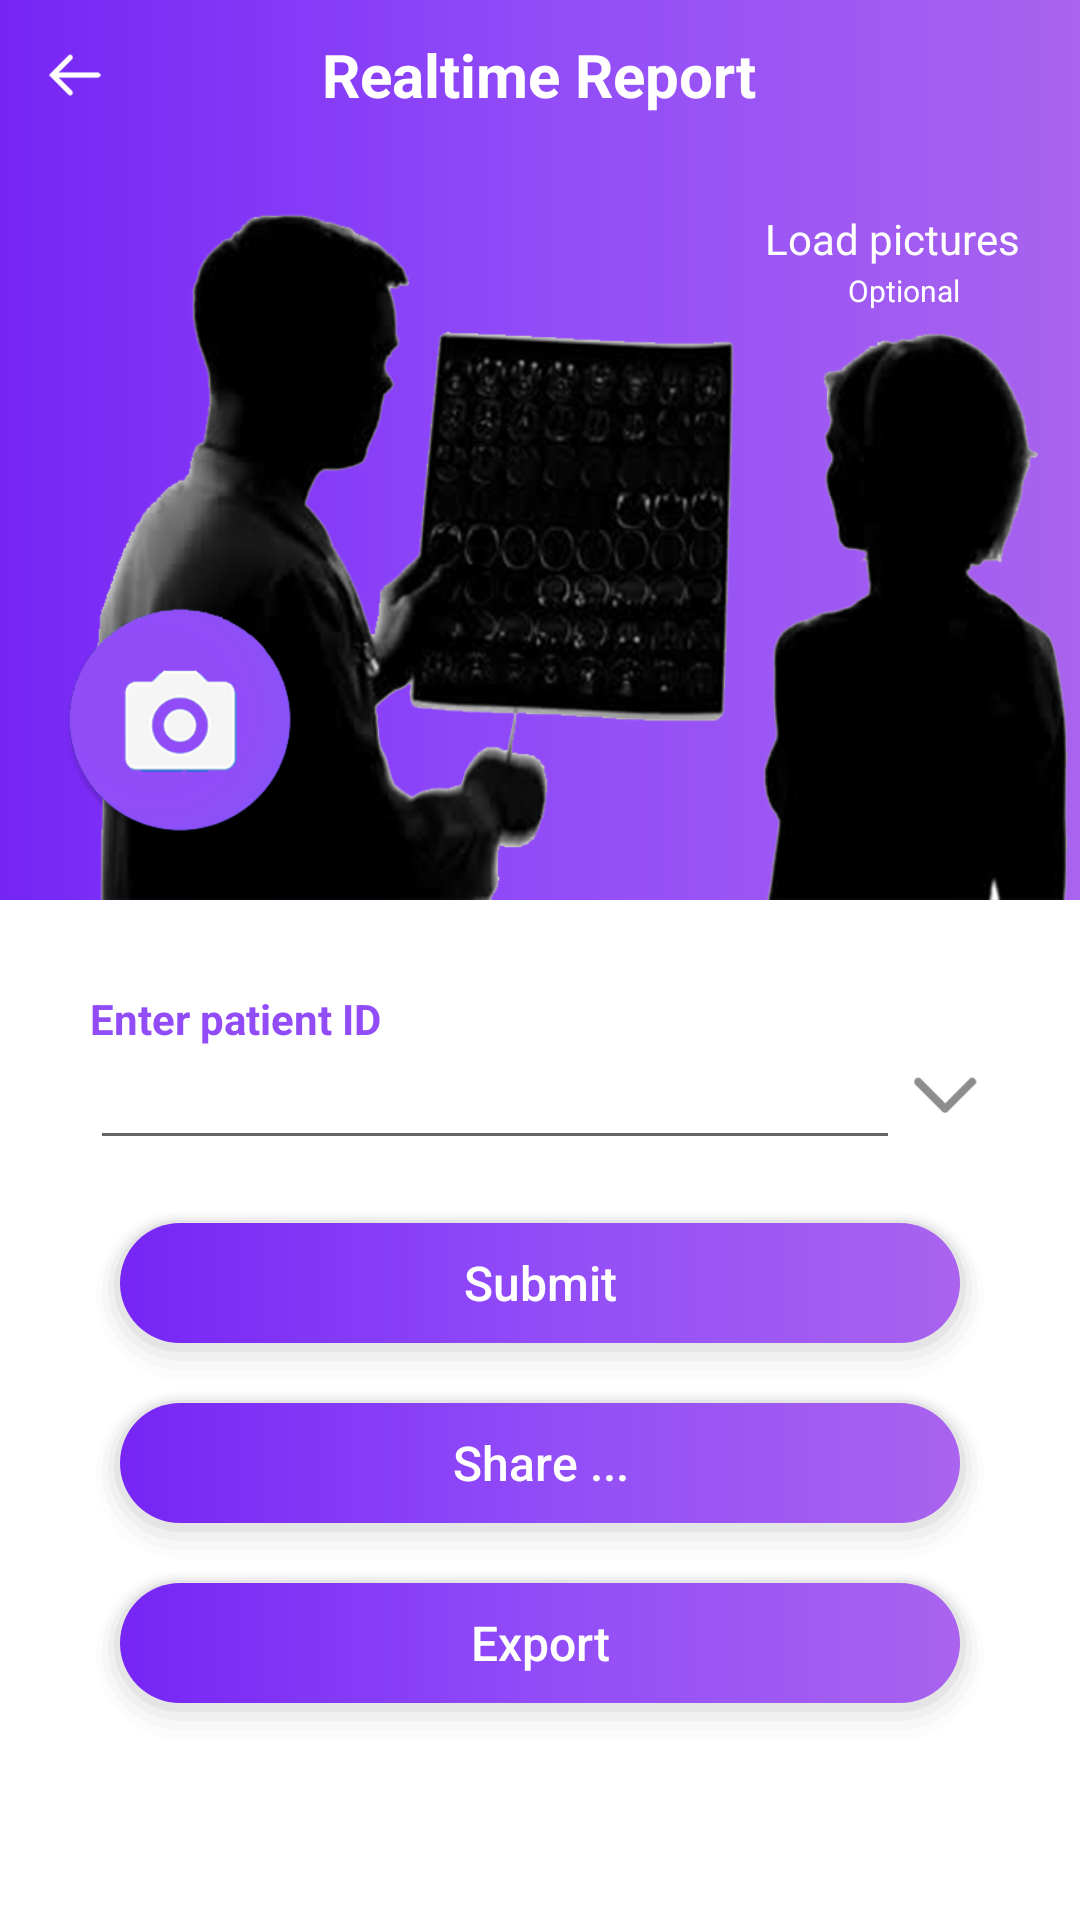

Icon click points for this 1080w x 1920h phone screenshot, format (x,y):
cameraico: (180,720)
downarrow: (945,1095)
leftarrow: (75,75)
